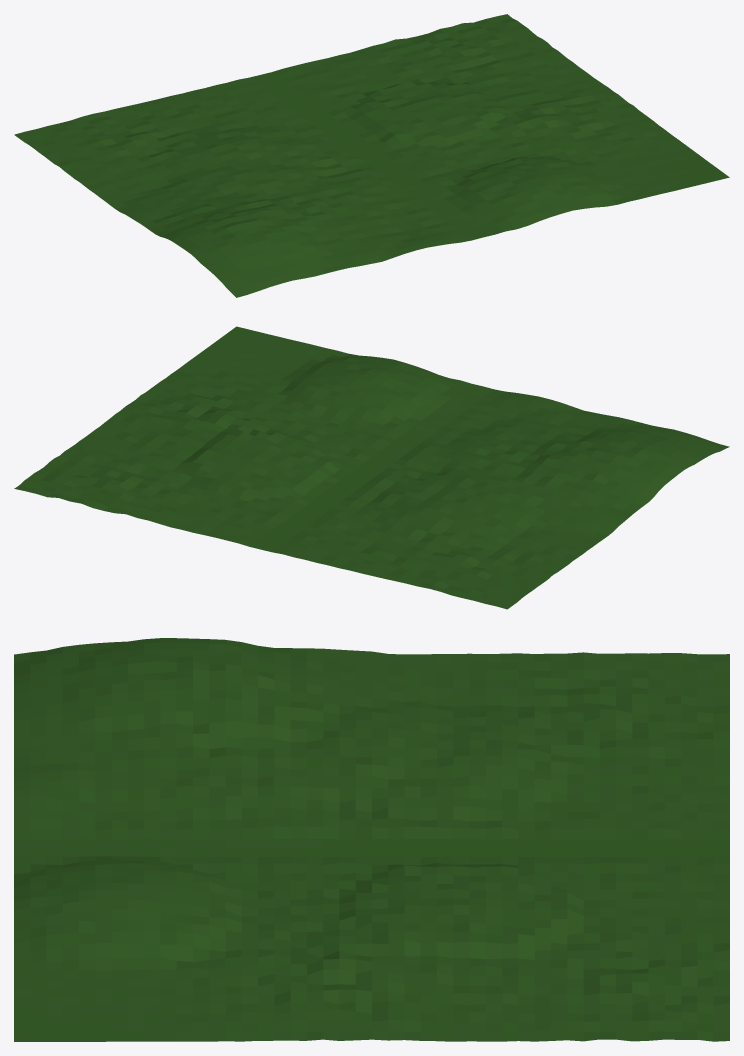
Rendered from Ground.fbx.
3 renders of one model, top to bottom at view 1: azimuth 30°, elevation 25°; view 2: azimuth 150°, elevation 25°; view 3: azimuth 270°, elevation 25°, orthographic. The views are drawn at different scales.
Visible parts, largest first — view 1: Land; view 2: Land; view 3: Land.
Boxes of the visible parts, x1,y1,x2,y2 form: Land: [14, 14, 729, 297]; Land: [14, 326, 729, 609]; Land: [14, 638, 729, 1041].
Size of the model in its own units: 19200 by 702 by 15000.
